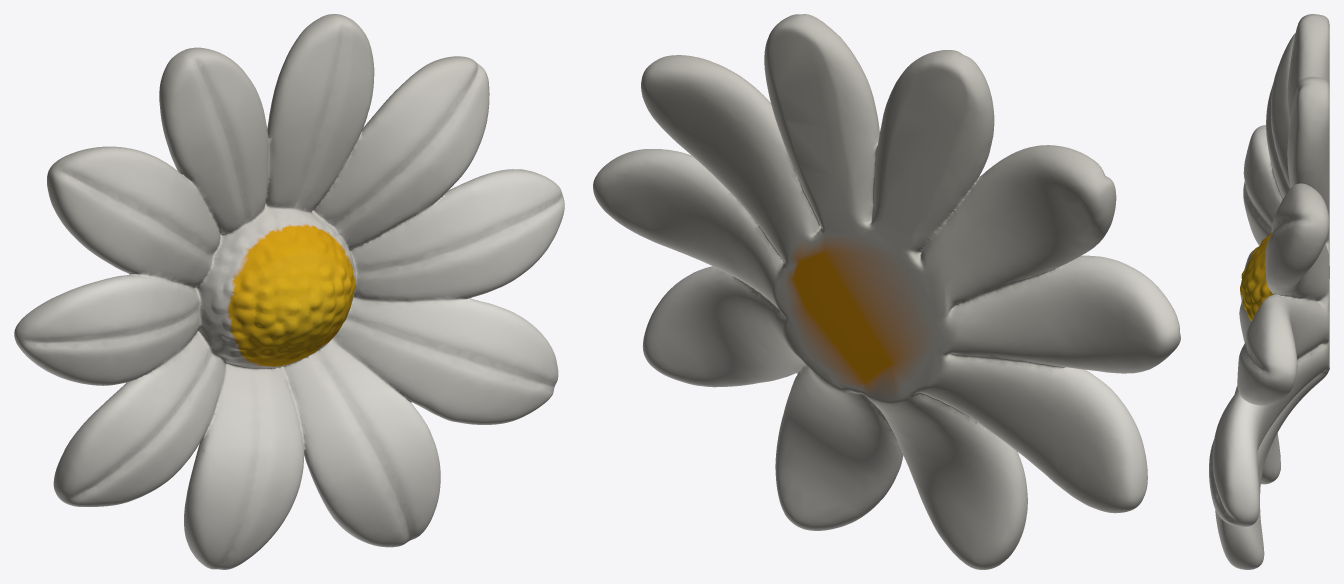
Rendered from daisy.glb.
3 renders of one model, left to right at view 1: azimuth 30°, elevation 25°; view 2: azimuth 150°, elevation 25°; view 3: azimuth 270°, elevation 25°, orthographic. The views are drawn at different scales.
Visible parts, largest first — view 1: daisy; view 2: daisy; view 3: daisy.
Part boxes in pixels (<box>): daisy: <box>14,14,564,569</box>; daisy: <box>593,14,1180,569</box>; daisy: <box>1209,14,1329,569</box>.
Bounding box in the file's own units: 1 × 0.8949 × 0.2065.
